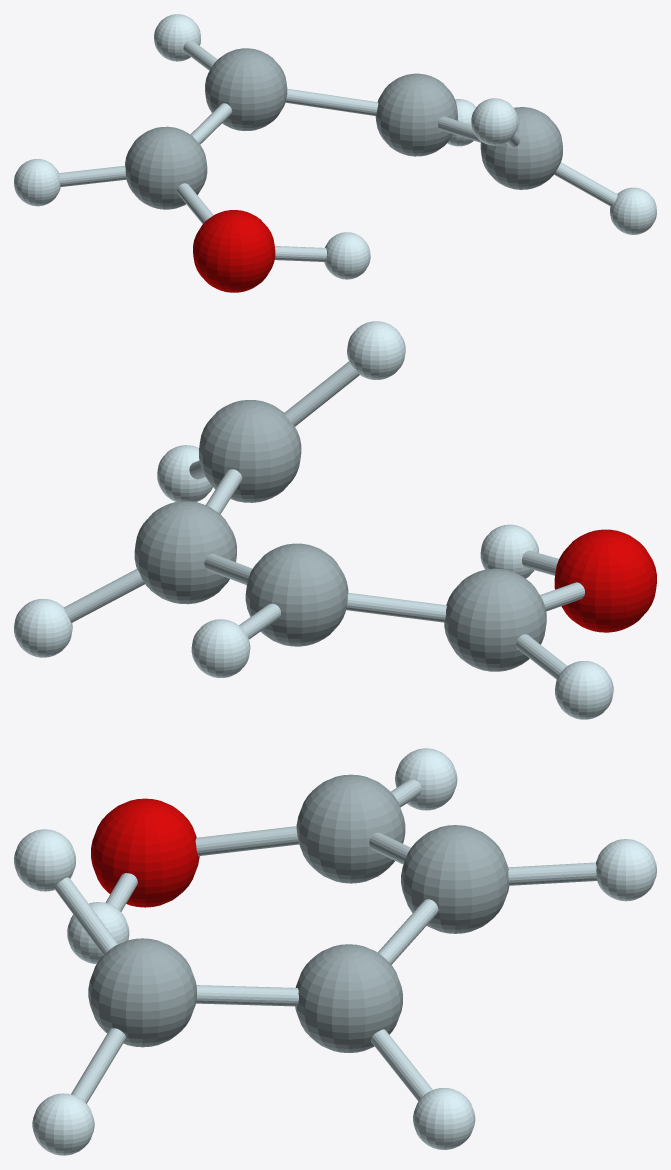
File: irc_061.glb
The picture shows the model from 3 angles, top to bottom: view 1: azimuth 30°, elevation 25°; view 2: azimuth 150°, elevation 25°; view 3: azimuth 270°, elevation 25°; orthographic projection. The views are drawn at different scales.
Visible parts, largest first — view 1: Renderer Node; view 2: Renderer Node; view 3: Renderer Node.
Part boxes in pixels (x1,y1,x2,y2): Renderer Node: (14,14,656,292); Renderer Node: (14,321,656,719); Renderer Node: (14,748,656,1155).
Bounding box in the file's own units: 4.85 × 1.7 × 4.13.
